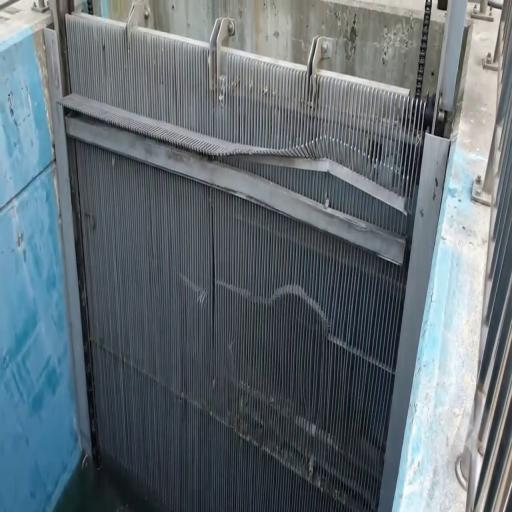rake: (54, 15, 452, 511)
rake_broken: (334, 158, 420, 226), (265, 151, 351, 190), (336, 141, 403, 182), (203, 142, 271, 172), (266, 141, 331, 172), (301, 133, 354, 163), (389, 163, 417, 205)
